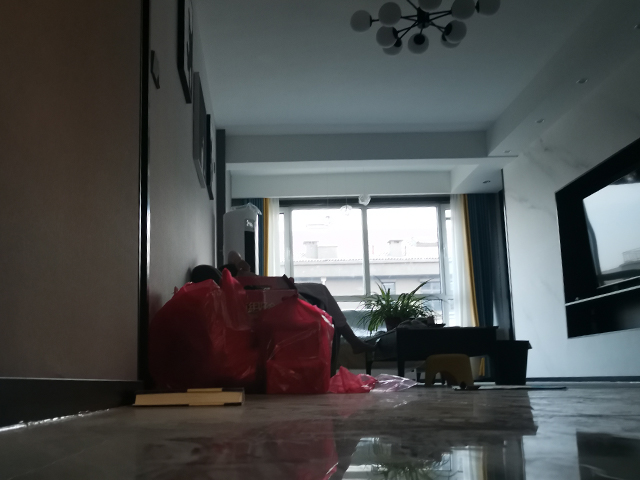book: (129, 387, 245, 411)
carpet: (453, 382, 566, 391)
curtain: (450, 196, 500, 326)
stool: (424, 352, 474, 390)
table: (359, 324, 501, 384)
trashcan: (484, 339, 533, 387)
